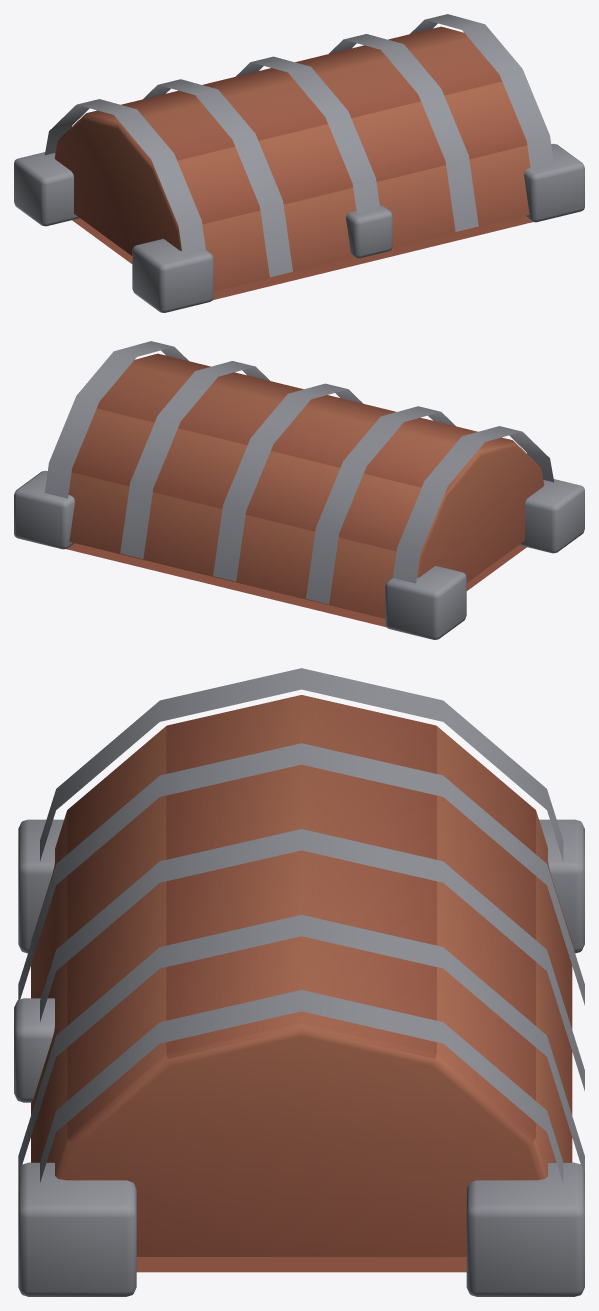
Rendered from chest_reinforced_lid.glb.
3 renders of one model, top to bottom at view 1: azimuth 30°, elevation 25°; view 2: azimuth 150°, elevation 25°; view 3: azimuth 270°, elevation 25°, orthographic. The views are drawn at different scales.
Visible parts, largest first — view 1: chest_reinforced_lid; view 2: chest_reinforced_lid; view 3: chest_reinforced_lid.
Part boxes in pixels (x1,y1,x2,y2): chest_reinforced_lid: (14, 14, 584, 312); chest_reinforced_lid: (14, 341, 584, 639); chest_reinforced_lid: (14, 668, 584, 1296).
Size of the model in its own units: 1.1 by 0.345 by 0.675.
2 materials, 1 textured.
